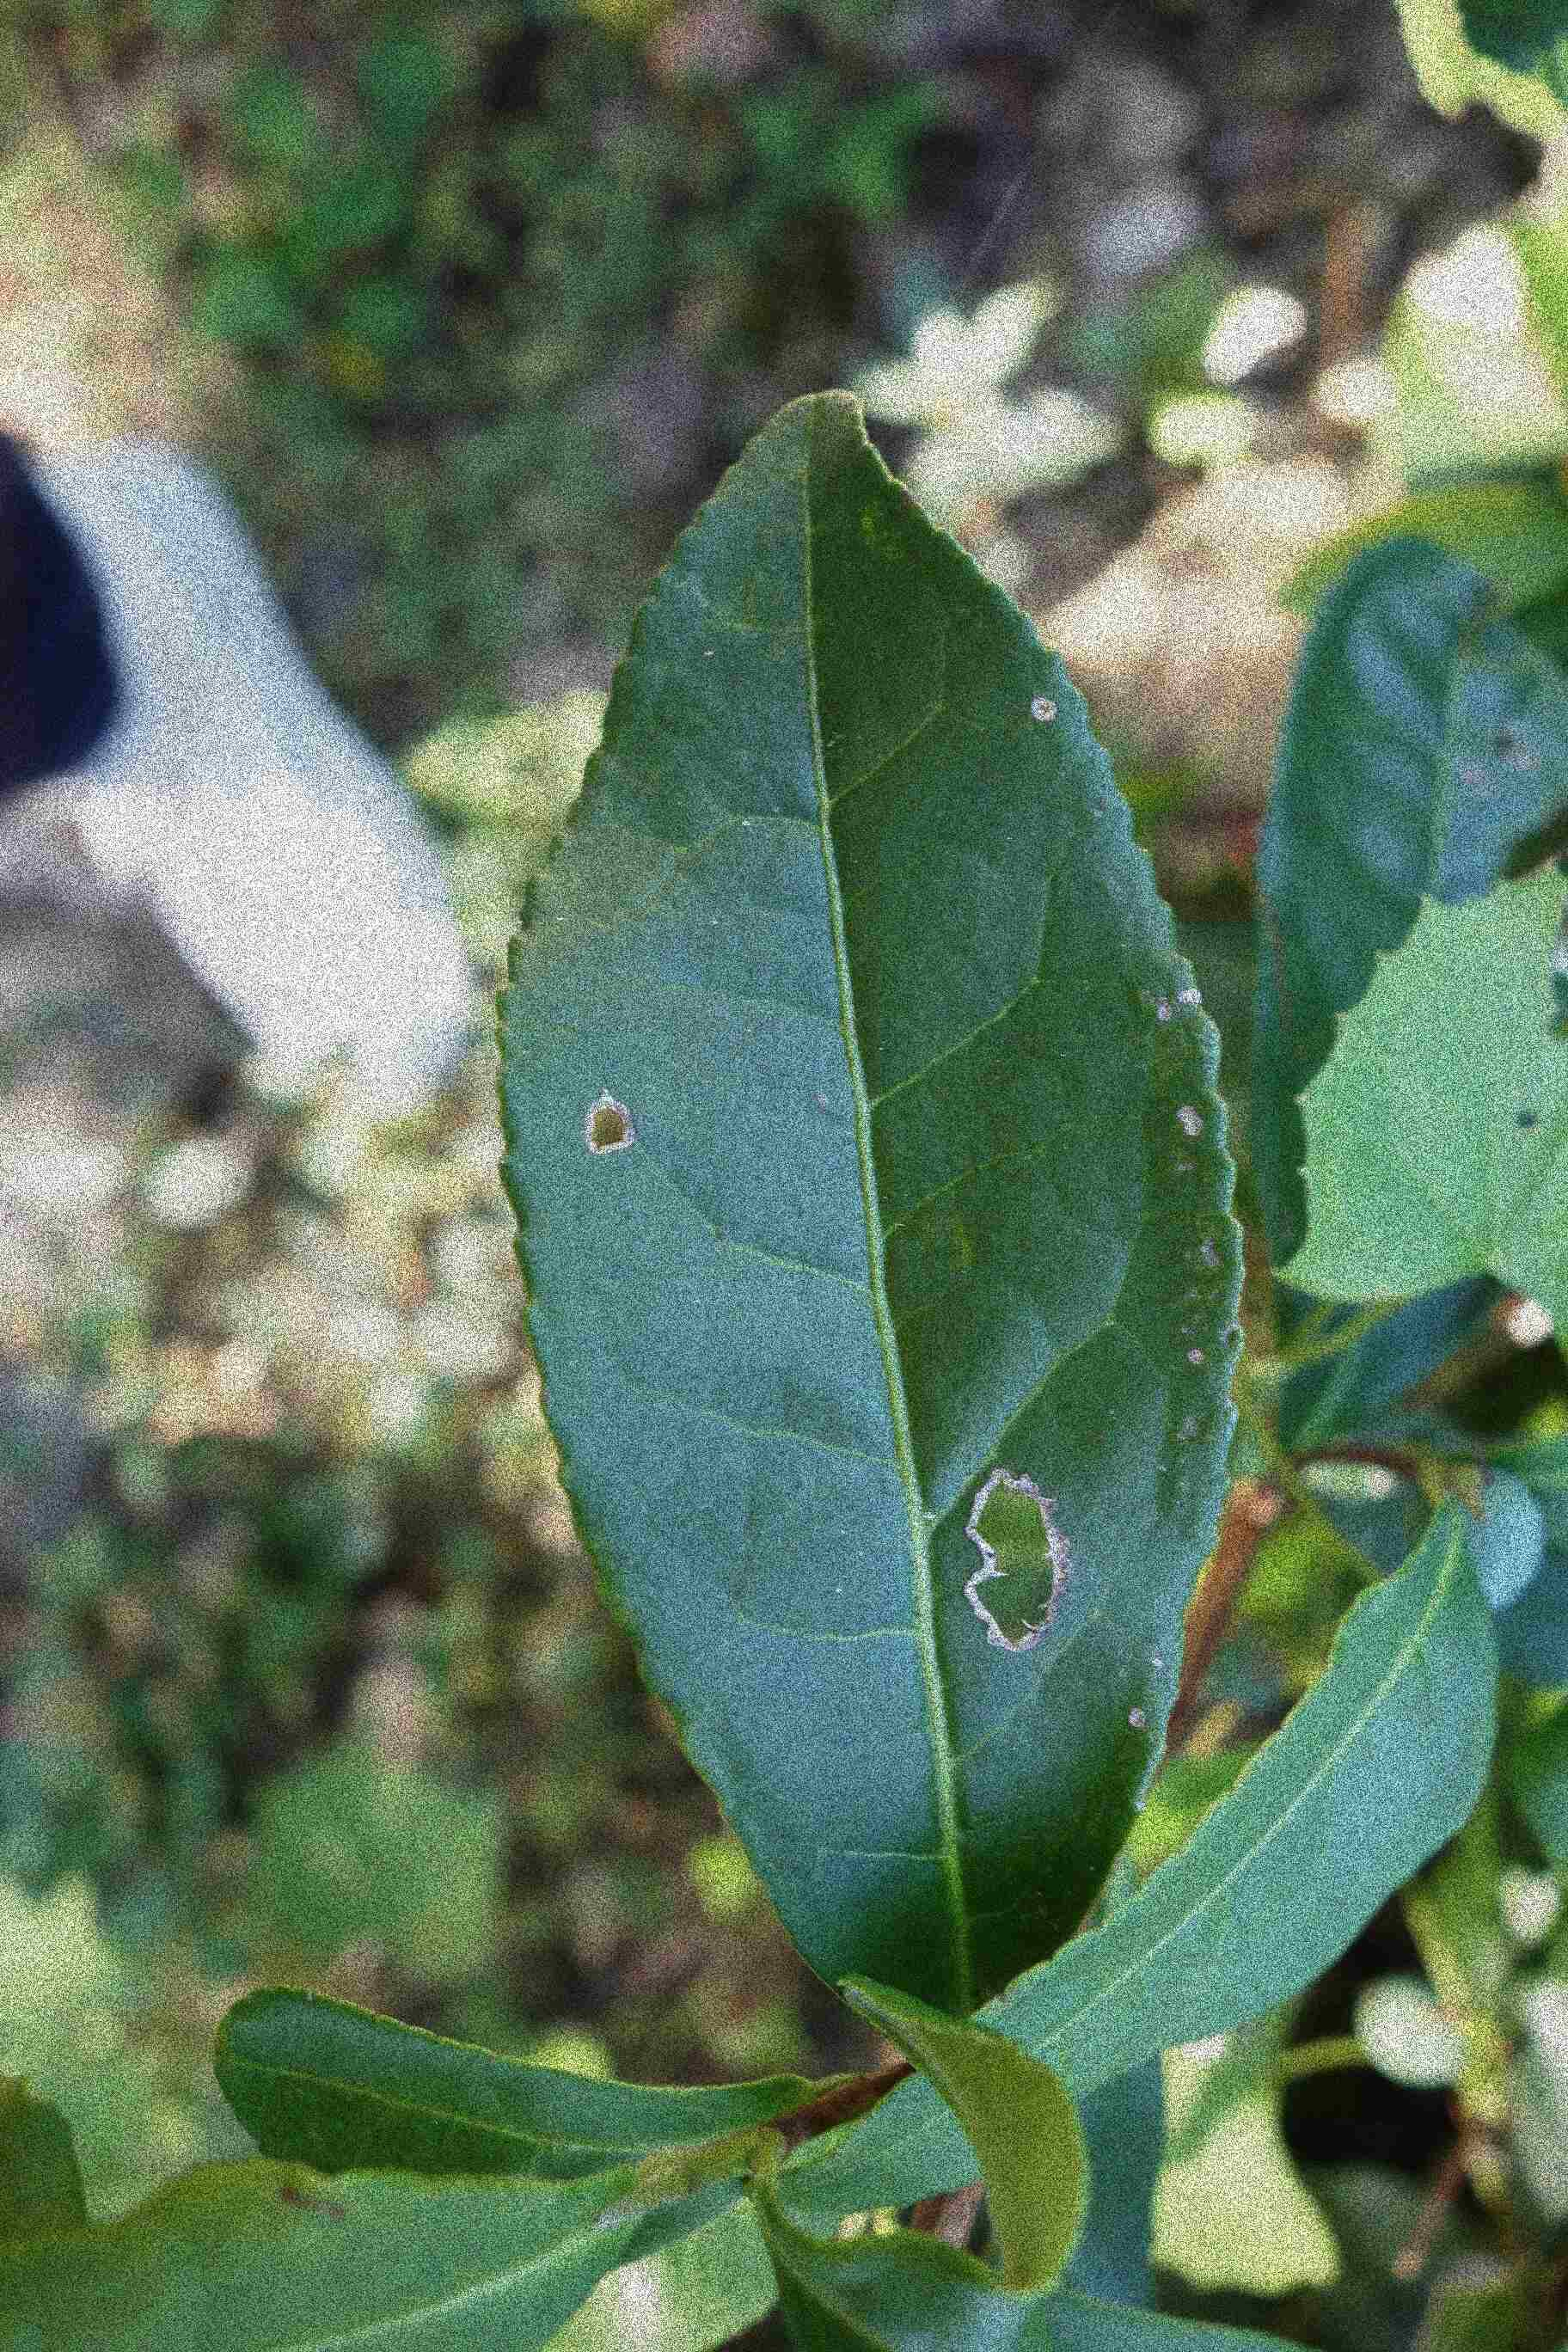chihuo_high: (485, 388, 1253, 2004)
